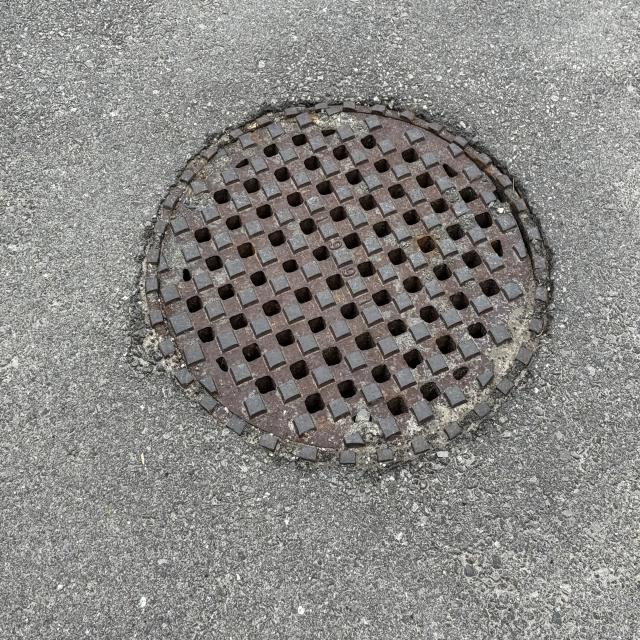Manhole: (145, 92, 556, 464)
